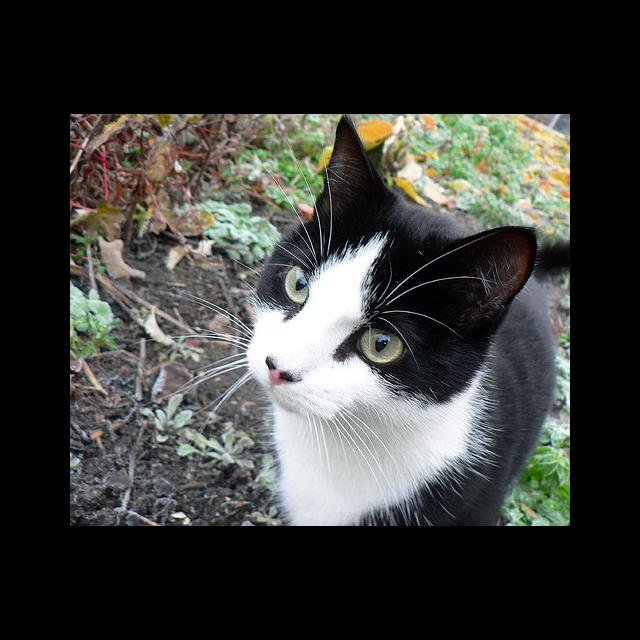animals: (272, 114, 532, 382)
